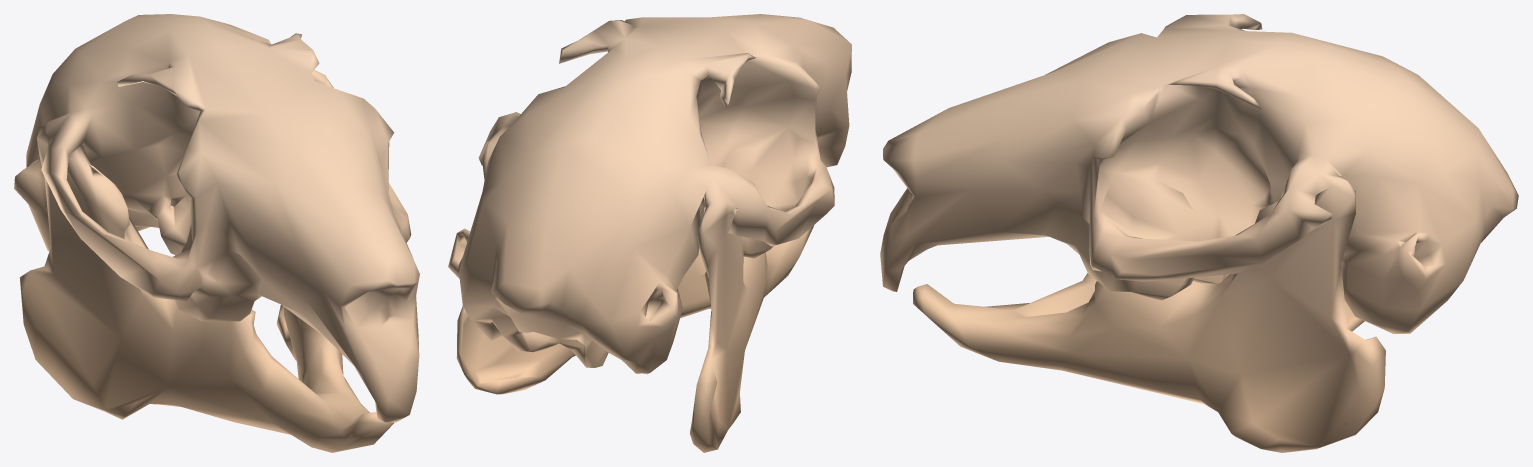
File: Skull6.fbx
The picture shows the model from 3 angles, left to right: view 1: azimuth 30°, elevation 25°; view 2: azimuth 150°, elevation 25°; view 3: azimuth 270°, elevation 25°; orthographic projection. The views are drawn at different scales.
Parts seen in each view (by area): view 1: 08_hare; view 2: 08_hare; view 3: 08_hare.
Boxes of the visible parts, bbox=[...] form: 08_hare: bbox=[14, 14, 419, 452]; 08_hare: bbox=[448, 14, 851, 452]; 08_hare: bbox=[880, 14, 1518, 452].
Size of the model in its own units: 46.37 by 56.17 by 90.31.
